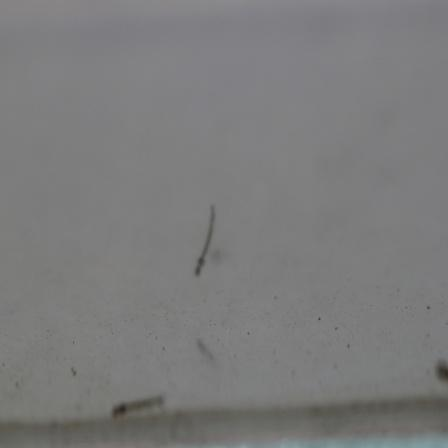Jentik-Nyamuk: (192, 200, 217, 278)
